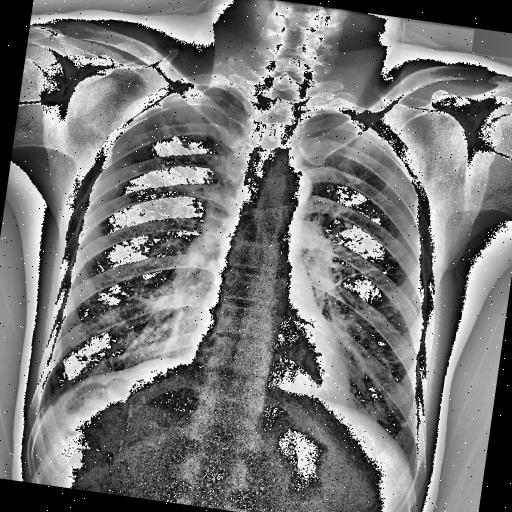13- Pulmonary fibrosis: (298, 257, 378, 319), (304, 257, 382, 314), (310, 254, 381, 309), (148, 108, 218, 160), (140, 101, 195, 154), (148, 101, 200, 150), (112, 152, 166, 191), (397, 420, 410, 429)
2- Calcification: (397, 420, 410, 429)
